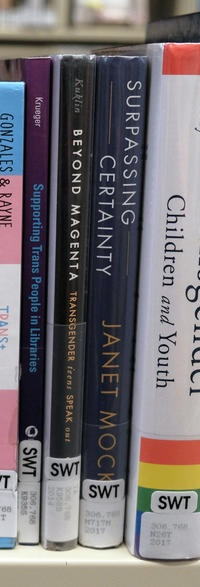call_number: (141, 513, 200, 560), (44, 481, 78, 544), (80, 501, 122, 544), (17, 482, 39, 541)
